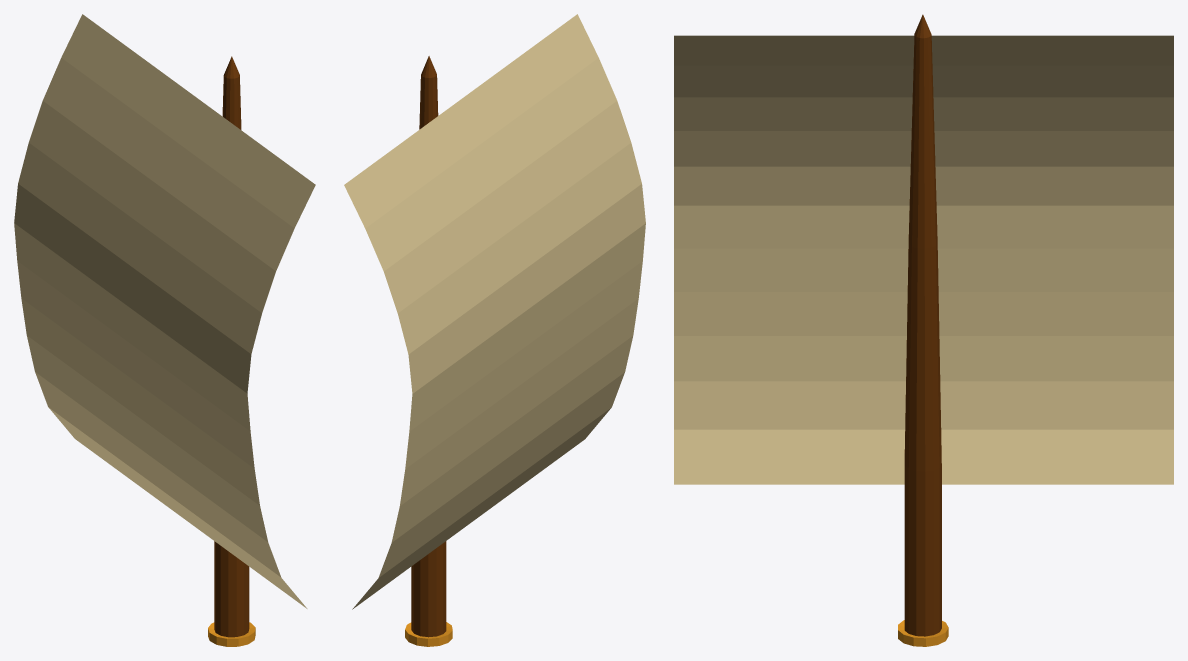
File: 1 Mast.gltf
3 renders of one model, left to right at view 1: azimuth 30°, elevation 25°; view 2: azimuth 150°, elevation 25°; view 3: azimuth 270°, elevation 25°, orthographic. The views are drawn at different scales.
Parts seen in each view (by area): view 1: Sail, Mast; view 2: Sail, Mast; view 3: Sail, Mast.
Part boxes in pixels (x1,y1,x2,y2): Sail: [14, 14, 315, 608]; Mast: [208, 56, 255, 646]; Sail: [344, 14, 645, 609]; Mast: [405, 56, 452, 646]; Sail: [674, 35, 1173, 484]; Mast: [898, 14, 948, 646].
Bounding box in the file's own units: 1.59 × 7.27 × 5.29.
